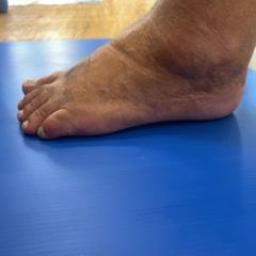Lateral View -Left Foot-: (2, 10, 252, 156)
